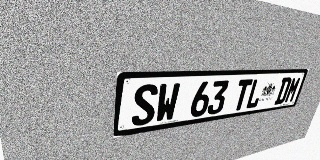3: (206, 80, 229, 115)
6: (189, 81, 213, 118)
D: (274, 77, 293, 105)
L: (245, 78, 265, 109)
M: (284, 77, 302, 103)
S: (131, 84, 159, 127)
T: (231, 79, 253, 111)
W: (154, 83, 181, 123)
